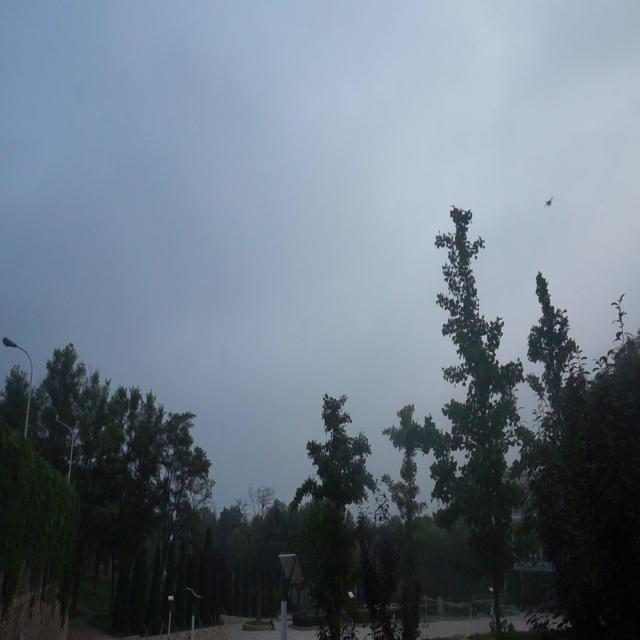UAV: (544, 196, 554, 208)
